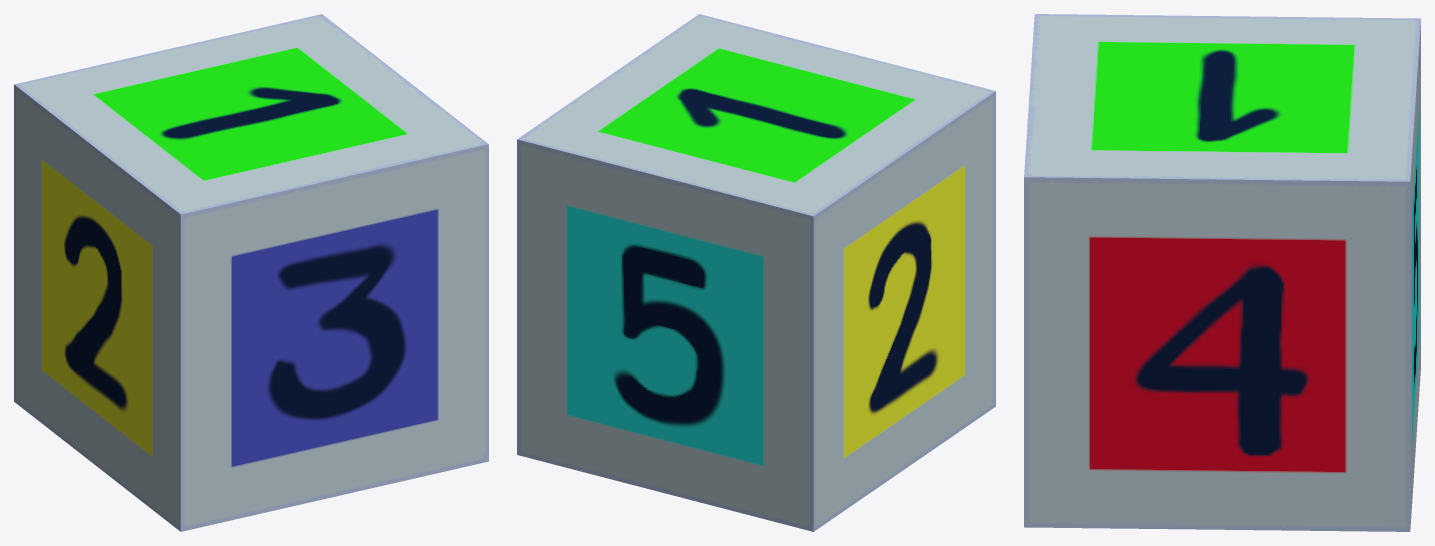
File: NST_Puzzle_Cube.fbx
3 views of the same model, side by side, from view 1: azimuth 30°, elevation 25°; view 2: azimuth 150°, elevation 25°; view 3: azimuth 270°, elevation 25° (orthographic). The views are drawn at different scales.
Visible parts, largest first — view 1: NST_Cube_Numbers; view 2: NST_Cube_Numbers; view 3: NST_Cube_Numbers.
Part boxes in pixels (box(x1,y1,x2,y2)): NST_Cube_Numbers: box(14, 14, 488, 531); NST_Cube_Numbers: box(517, 14, 995, 531); NST_Cube_Numbers: box(1024, 14, 1420, 531).
Bounding box in the file's own units: 0.1245 × 0.1212 × 0.1245.
